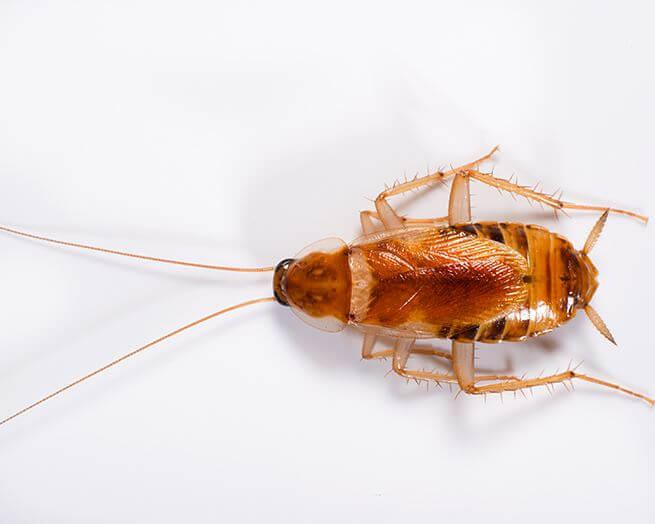cockroach: (271, 178, 615, 398)
